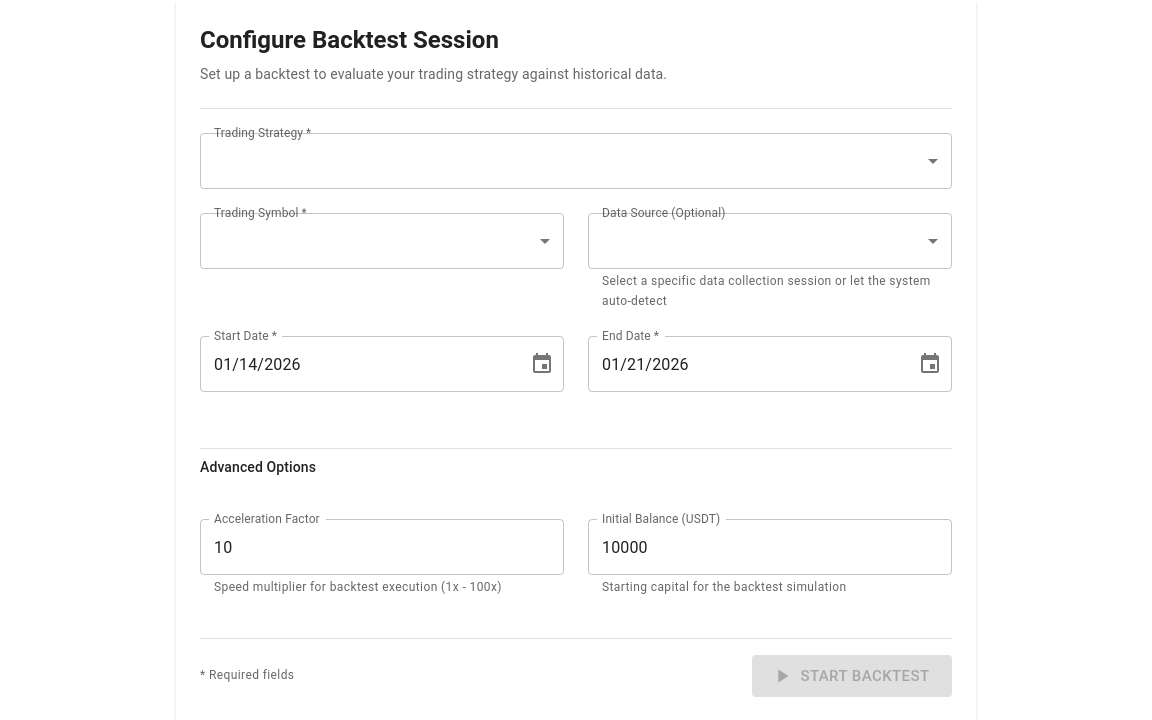
Scenario: BacktestSetupForm › AC4 & AC5: Data Availability › displays warning when data quality is partial (AC5)
Press the mouse on the dropdown named "Trading Symbol" next to "Trading Symbol *": (382, 241) [200,213,564,269]
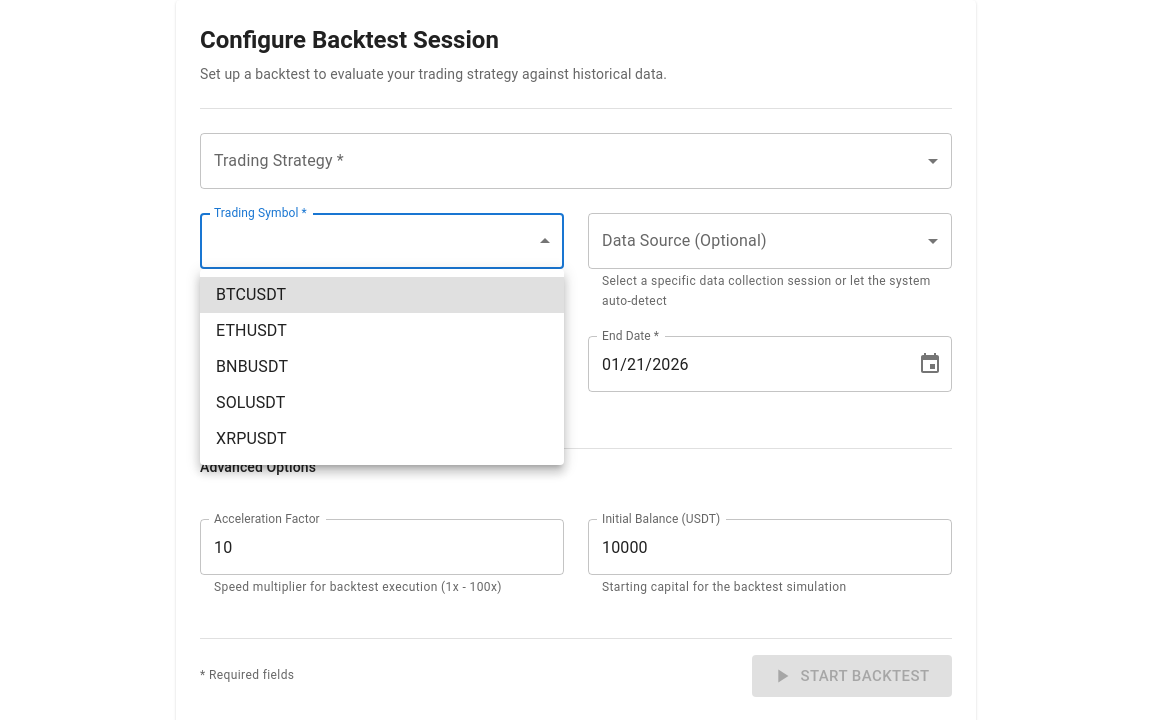
Now the option "BTCUSDT" is shown
Click the option "BTCUSDT": (251, 294) [200,277,564,313]
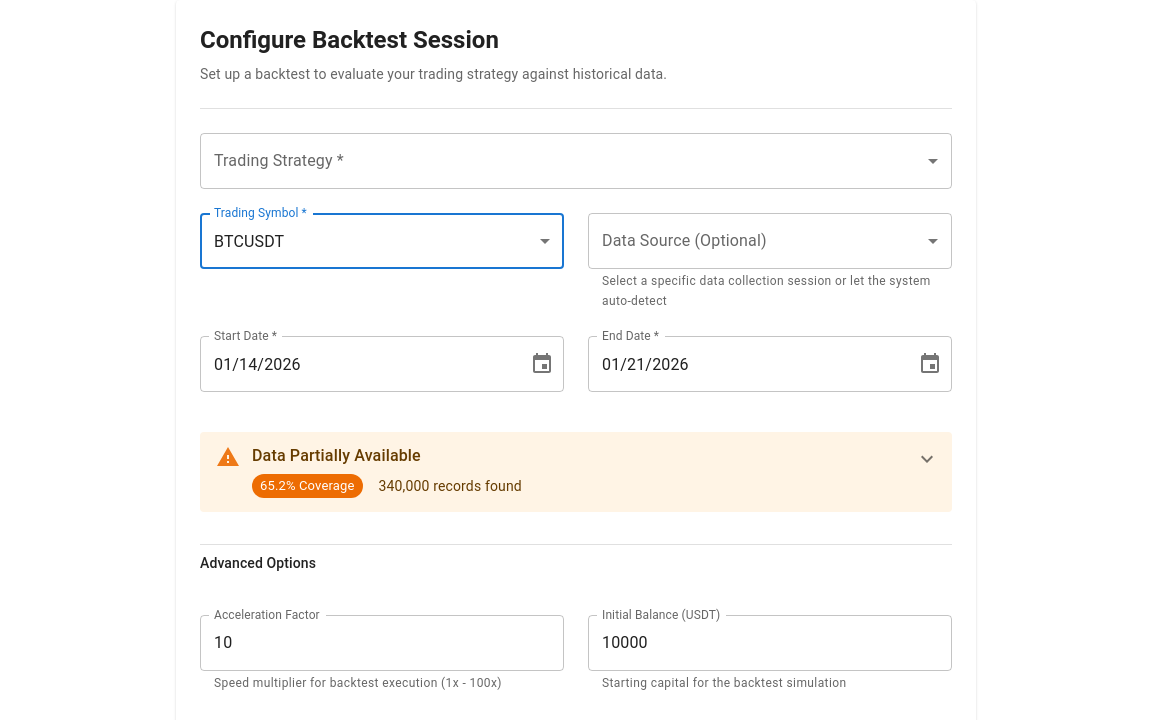
Now the text "Data Partially Available" is shown, box [252,446,421,465]
Now the text "65.2% Coverage" is shown, box [252,476,362,495]
